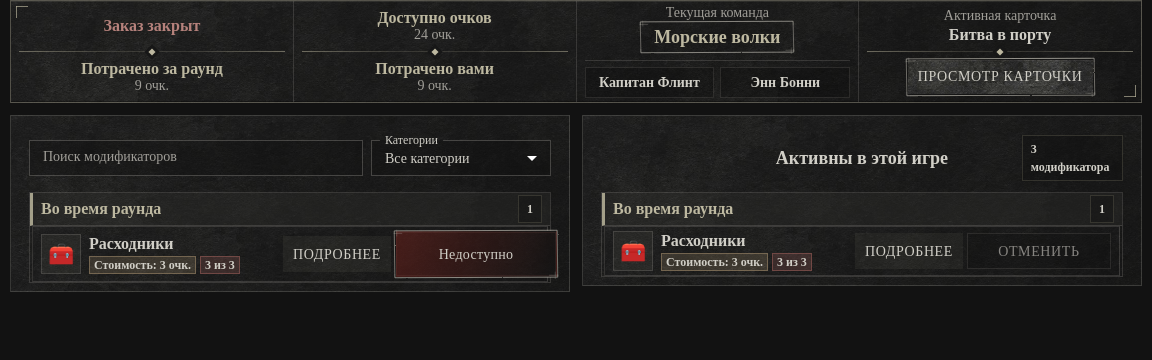
GameModifiersPage › shows a compact ordering status with a detailed tooltip
Hover over the message "Заказ закрыт".
mouse_move(110, 35)  # box left=19, top=18, right=200, bottom=53
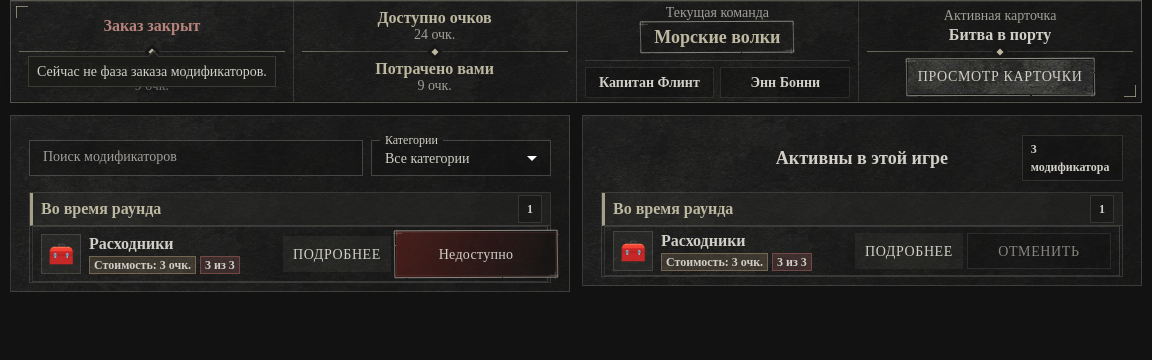
Result: the tooltip reads "Сейчас не фаза заказа модификаторов." at left=37, top=64, right=267, bottom=79
Move the pointer off the message "Заказ закрыт", box left=19, top=18, right=200, bottom=53
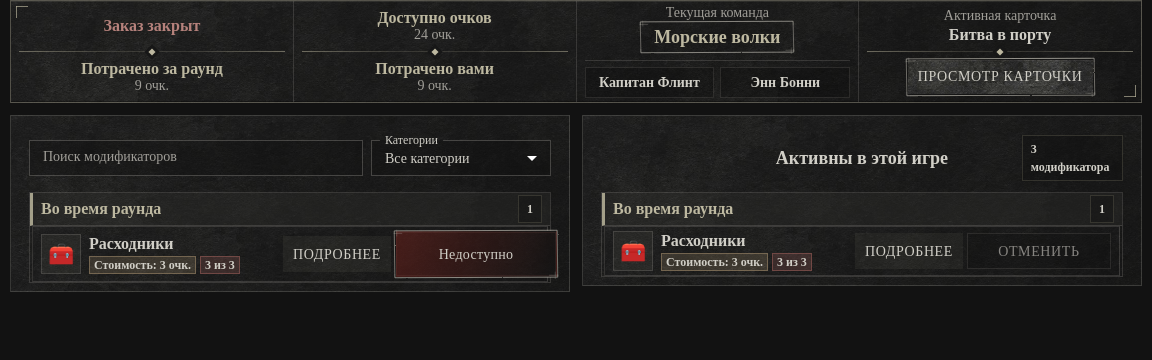
Expected: the text "Заказ закрыт: сейчас не фаза заказа модификаторов." is not shown
Result: the tooltip "Сейчас не фаза заказа модификаторов." is gone
Hover over the element showing "Недоступно".
mouse_move(467, 254)  # box left=395, top=231, right=539, bottom=277
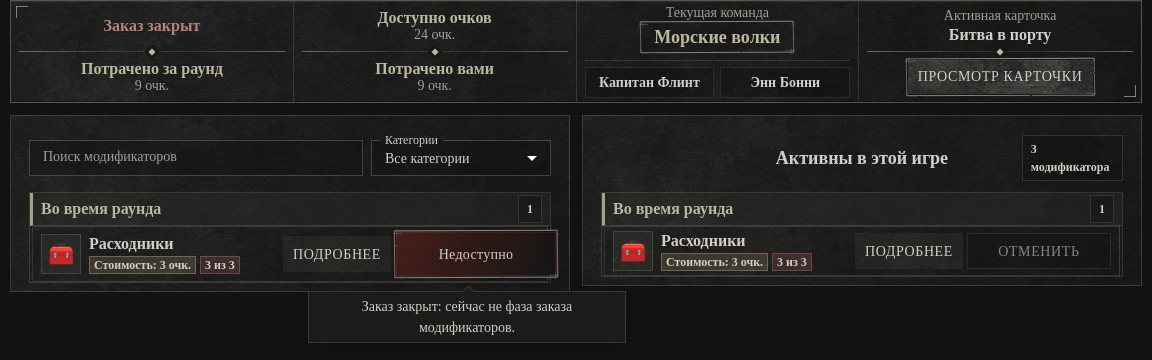
Result: the tooltip reads "Заказ закрыт: сейчас не фаза заказа модификаторов." at left=362, top=299, right=572, bottom=335
